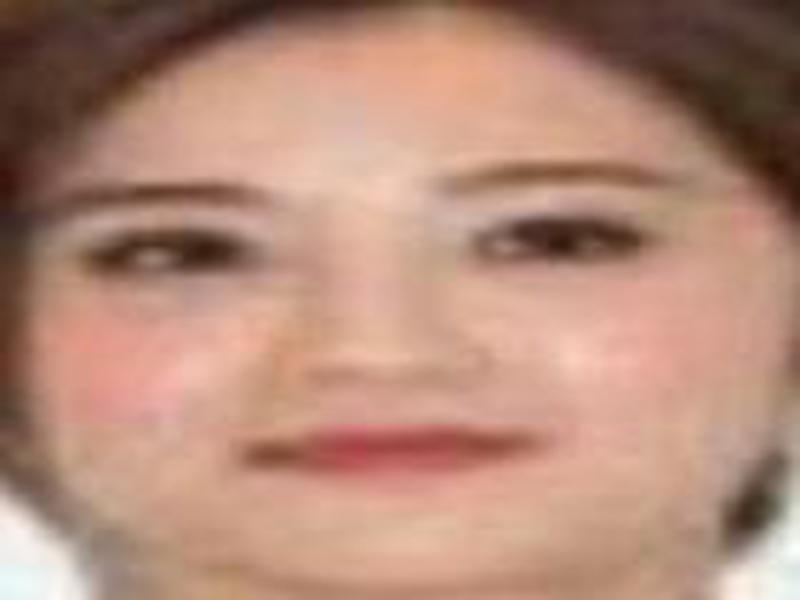without_mask: (27, 82, 782, 584)
